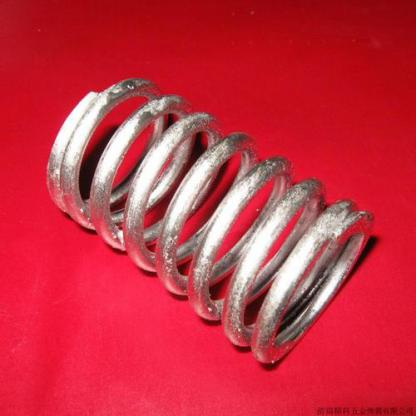FOD: (40, 72, 379, 370)
